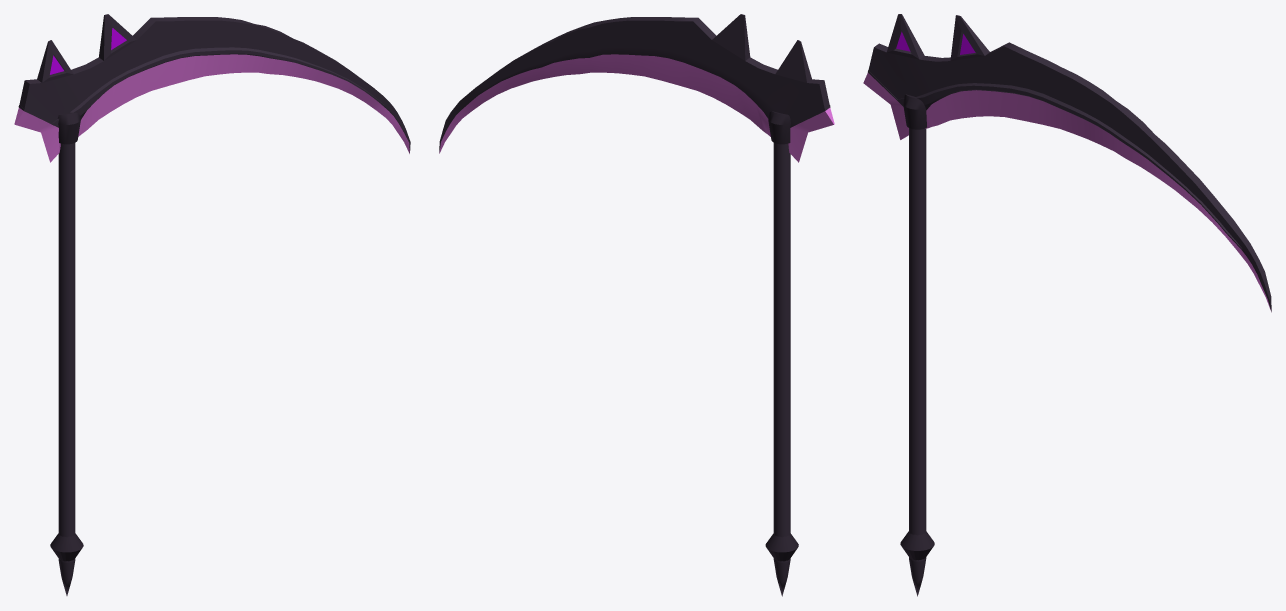
The model's file is Sickle01.fbx.
3 renders of one model, left to right at view 1: azimuth 30°, elevation 25°; view 2: azimuth 150°, elevation 25°; view 3: azimuth 330°, elevation 25°, orthographic. The views are drawn at different scales.
Visible parts, largest first — view 1: pCylinder4; view 2: pCylinder4; view 3: pCylinder4.
Part boxes in pixels (left/top/right/bottom): pCylinder4: left=14, top=14, right=410, bottom=595; pCylinder4: left=439, top=14, right=834, bottom=596; pCylinder4: left=863, top=14, right=1271, bottom=596.
Size of the model in its own units: 0.6745 by 0.9336 by 0.0495.
